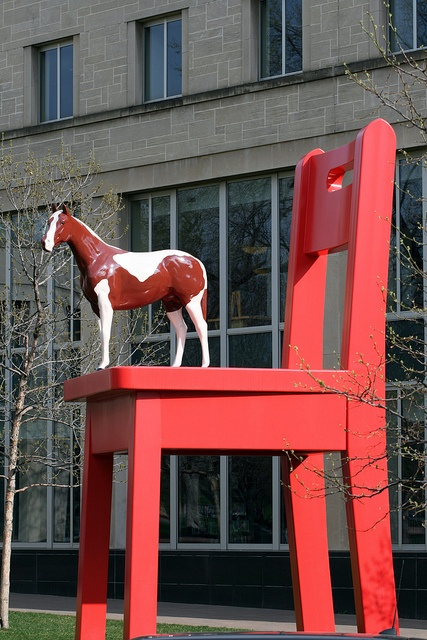chair: (63, 114, 427, 640)
horse: (41, 200, 252, 569)
